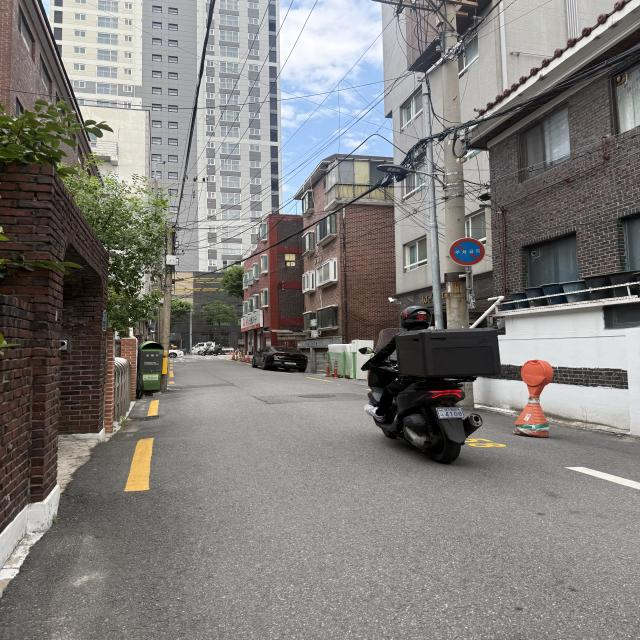motorcycle: (336, 289, 514, 480)
